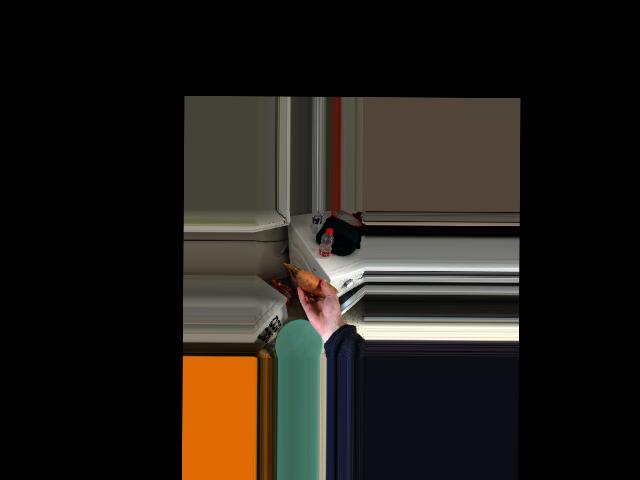sweet_potato: (299, 271, 332, 300)
